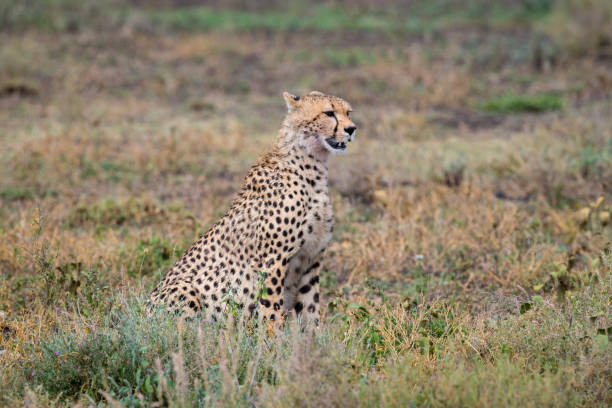cheetah: (278, 79, 367, 176)
